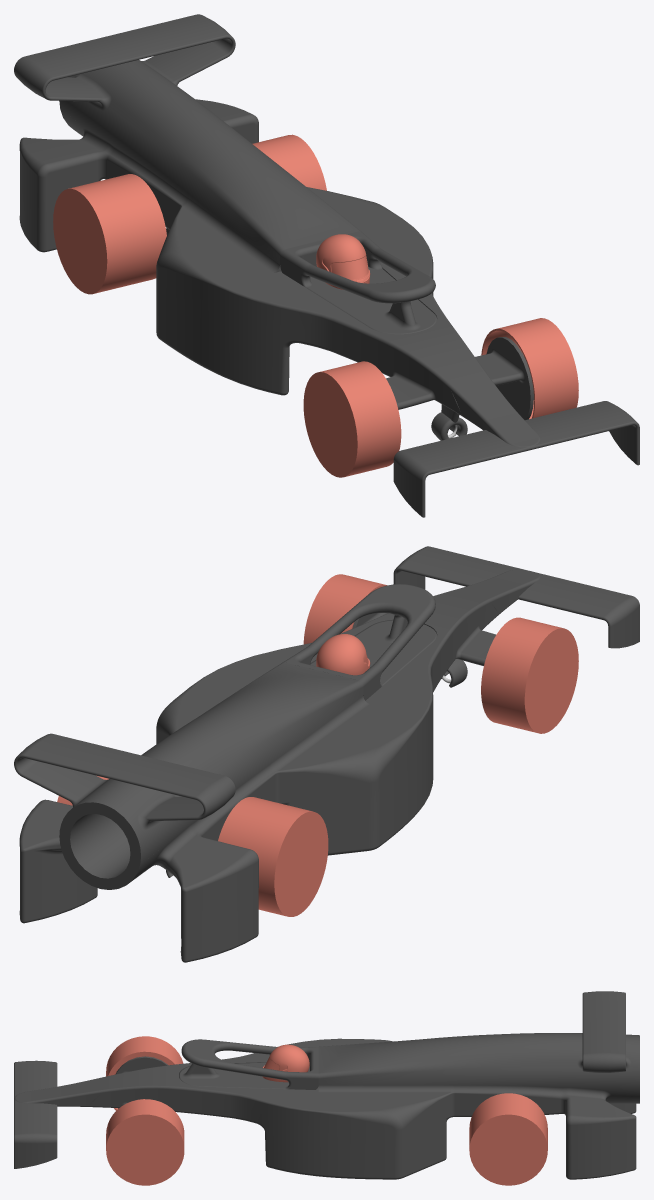
Rendered from modelo.glb.
3 renders of one model, top to bottom at view 1: azimuth 30°, elevation 25°; view 2: azimuth 150°, elevation 25°; view 3: azimuth 270°, elevation 25°, orthographic. The views are drawn at different scales.
Visible parts, largest first — view 1: AFTERTESTR1; view 2: AFTERTESTR1; view 3: AFTERTESTR1.
Part boxes in pixels (box(x1,y1,x2,y2)): AFTERTESTR1: box(14, 14, 639, 517); AFTERTESTR1: box(14, 546, 639, 962); AFTERTESTR1: box(14, 991, 639, 1185).
Size of the model in its own units: 6.63 by 4.9 by 22.4.
